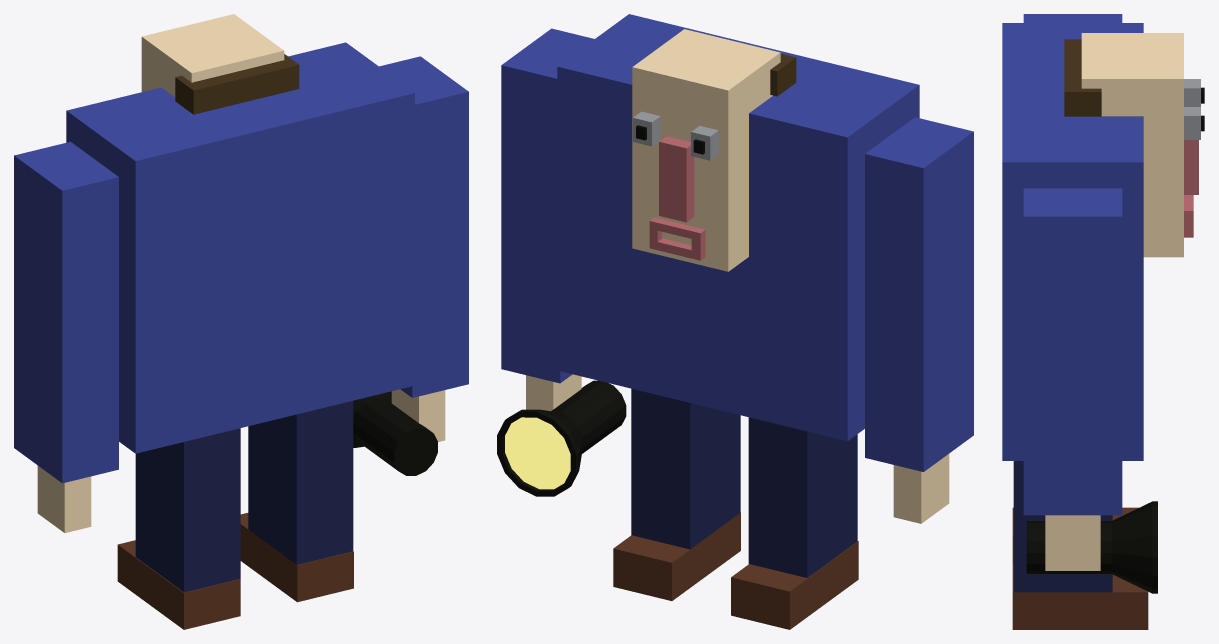
File: Man with light.glb
The picture shows the model from 3 angles, left to right: view 1: azimuth 30°, elevation 25°; view 2: azimuth 150°, elevation 25°; view 3: azimuth 270°, elevation 25°; orthographic projection. The views are drawn at different scales.
Visible parts, largest first — view 1: Cube.002, Cube, Cube.003, Cube.005, Cube.004, Cube.001, Cube.006, Cylinder, Cube.007, Cube.014, Cube.008, Cube.009; view 2: Cube.002, Cube, Cube.001, Cube.003, Cube.004, Cube.005, Cylinder, Cube.006, Cube.007, Cube.008, Cube.011, Cube.015 (+4 smaller); view 3: Cube.003, Cube.002, Cube.001, Cube.007, Cylinder, Cube.005, Cube.009, Cube.014, Cube, Cube.011, Cube.012, Cube.013 (+1 smaller).
Part boxes in pixels (x1,y1,x2,y2): Cube.002: [66, 42, 414, 453]; Cube: [14, 141, 118, 483]; Cube.003: [379, 56, 468, 397]; Cube.005: [248, 401, 353, 564]; Cube.004: [135, 428, 240, 592]; Cube.001: [141, 14, 284, 96]; Cube.006: [117, 540, 240, 629]; Cylinder: [353, 391, 437, 475]; Cube.007: [240, 513, 353, 602]; Cube.014: [175, 54, 299, 114]; Cube.008: [37, 465, 91, 532]; Cube.009: [391, 389, 445, 441]; Cube.002: [557, 14, 919, 441]; Cube: [865, 117, 973, 471]; Cube.001: [632, 29, 780, 271]; Cube.003: [501, 28, 594, 383]; Cube.004: [748, 417, 857, 577]; Cube.005: [631, 388, 740, 549]; Cylinder: [497, 380, 626, 496]; Cube.006: [731, 541, 858, 629]; Cube.007: [613, 512, 740, 600]; Cube.008: [893, 454, 949, 523]; Cube.011: [659, 136, 694, 222]; Cube.015: [649, 217, 705, 260]; Cube.003: [1023, 188, 1122, 515]; Cube.002: [1002, 23, 1143, 460]; Cube.001: [1081, 33, 1183, 257]; Cube.007: [1012, 564, 1148, 629]; Cylinder: [1026, 501, 1157, 593]; Cube.005: [1013, 461, 1112, 592]; Cube.009: [1045, 515, 1100, 570]; Cube.014: [1064, 39, 1101, 116]; Cube: [1023, 14, 1122, 22]; Cube.011: [1184, 140, 1198, 194]; Cube.012: [1184, 107, 1200, 139]; Cube.013: [1184, 79, 1200, 106].
Bounding box in the file's own units: 2.91 × 3.57 × 1.23.
